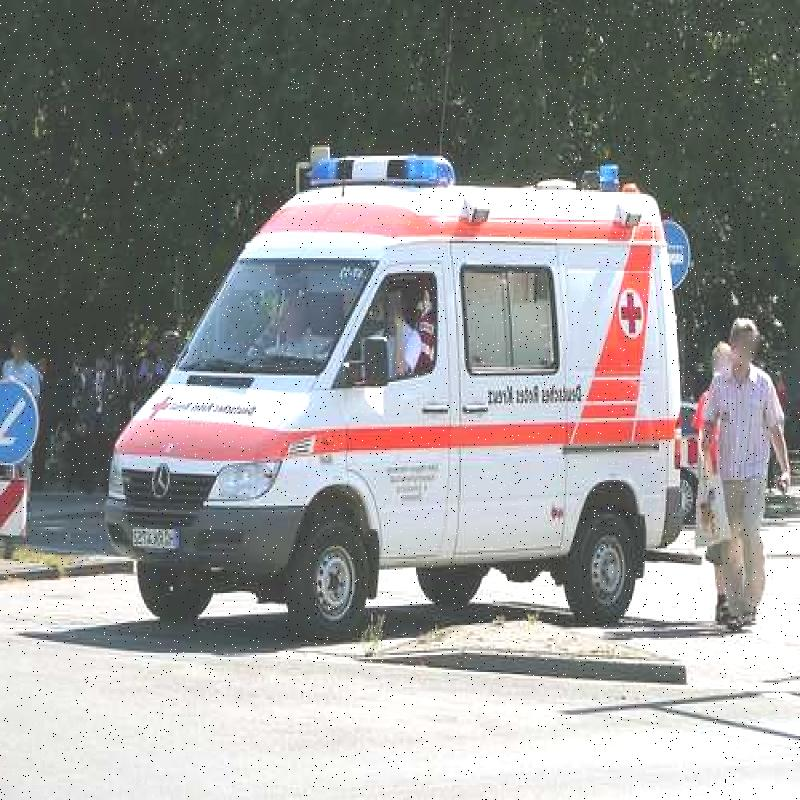AmbulanceSiren: (296, 126, 459, 200)
ambulance: (108, 98, 716, 640)
